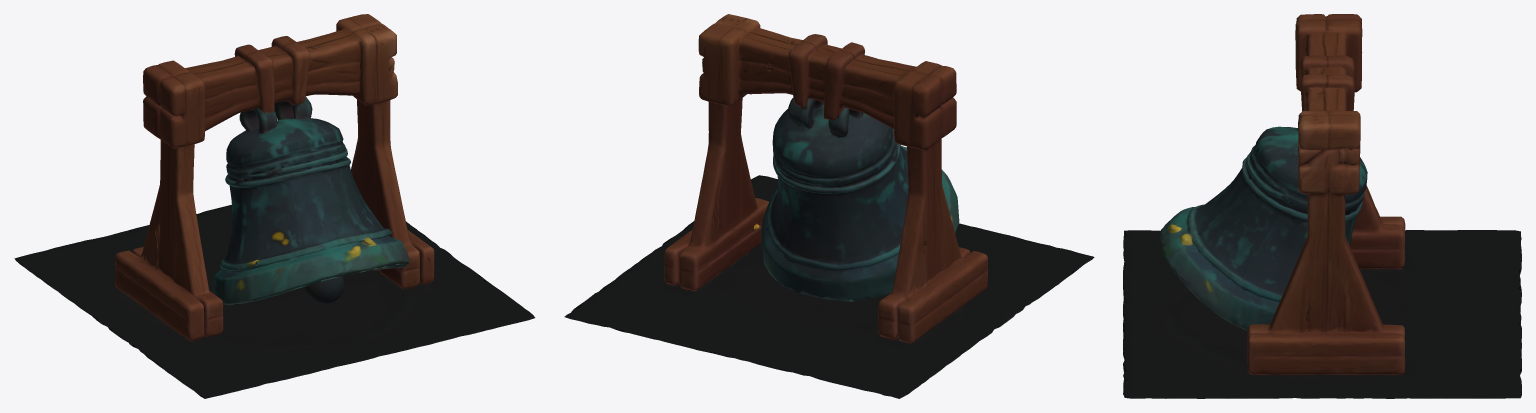
The model's file is bell_t1.glb.
The picture shows the model from 3 angles, left to right: view 1: azimuth 30°, elevation 25°; view 2: azimuth 150°, elevation 25°; view 3: azimuth 270°, elevation 25°; orthographic projection. The views are drawn at different scales.
Visible parts, largest first — view 1: geometry_0; view 2: geometry_0; view 3: geometry_0.
Part boxes in pixels (x1,y1,x2,y2): geometry_0: (14, 14, 535, 398); geometry_0: (564, 14, 1094, 398); geometry_0: (1123, 14, 1521, 398).
Size of the model in its own units: 1 by 0.6887 by 1.
1 material, 1 textured.
